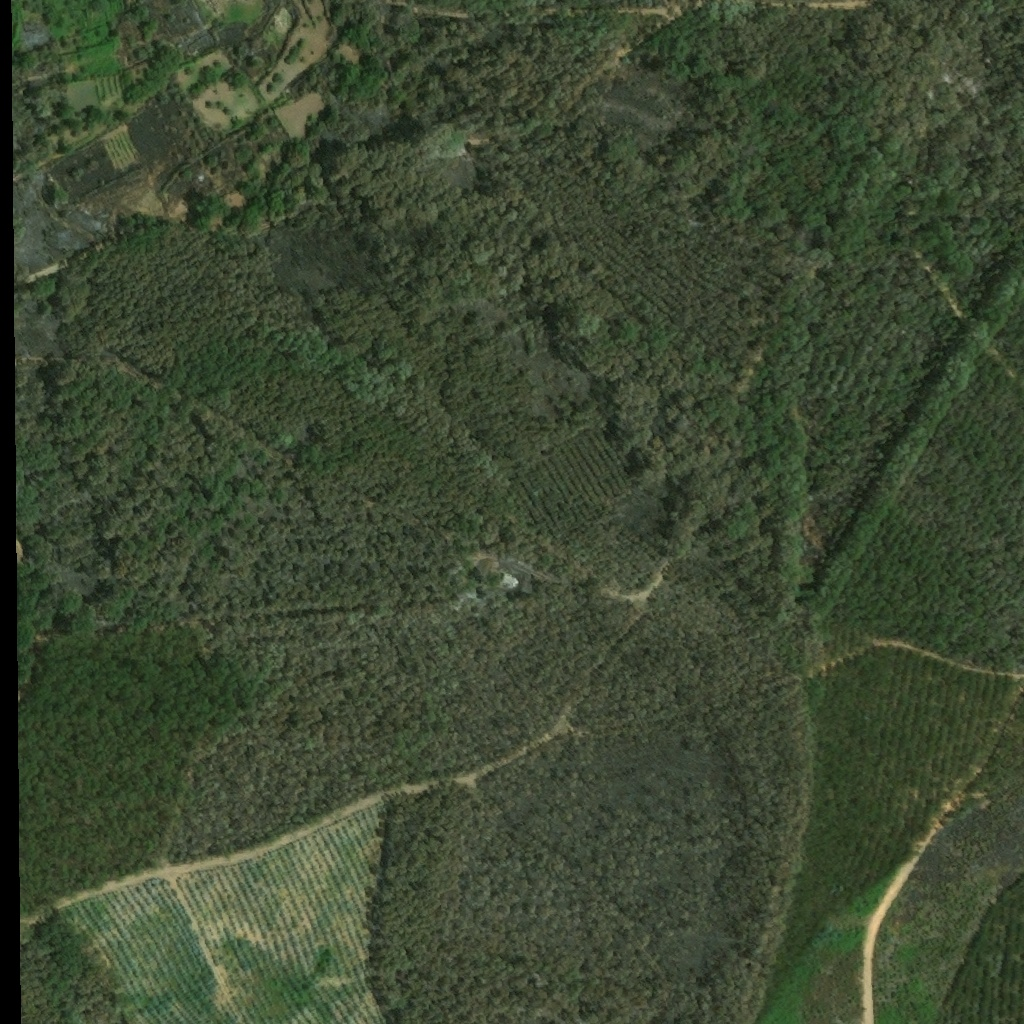0 no-damage: (501, 573, 522, 591)
